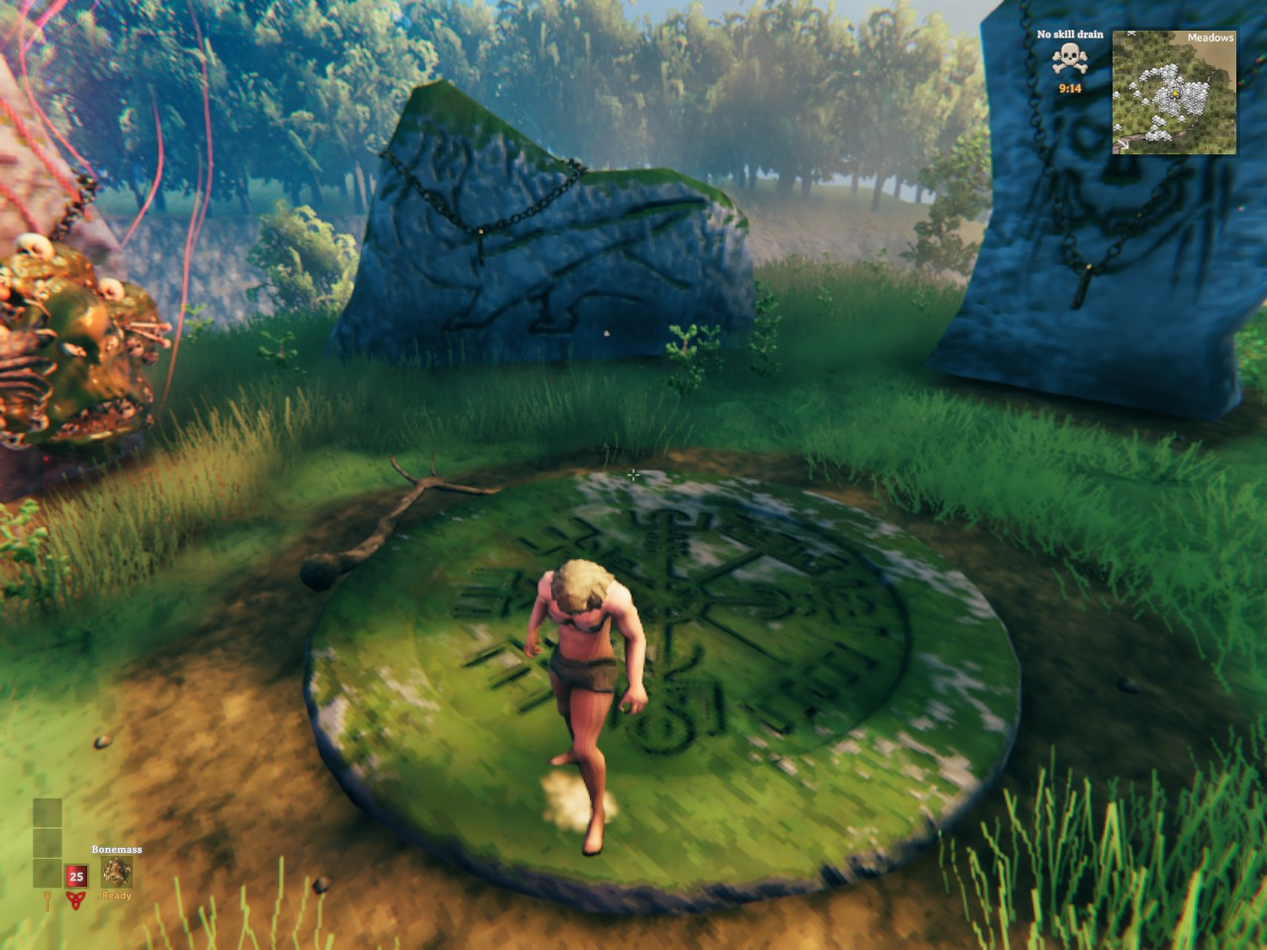Spawn Point: (304, 471, 1019, 911)
